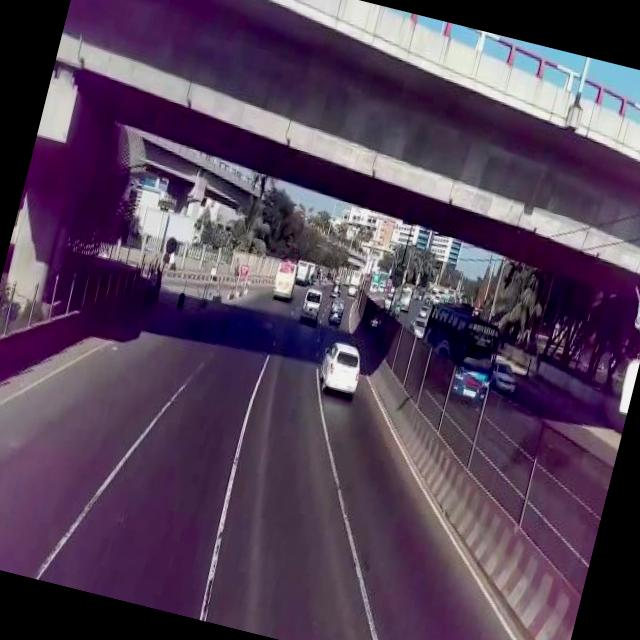bus: (408, 289, 512, 409), (268, 254, 300, 302)
car: (311, 333, 369, 404)
truck: (296, 284, 324, 326), (323, 294, 346, 328)
